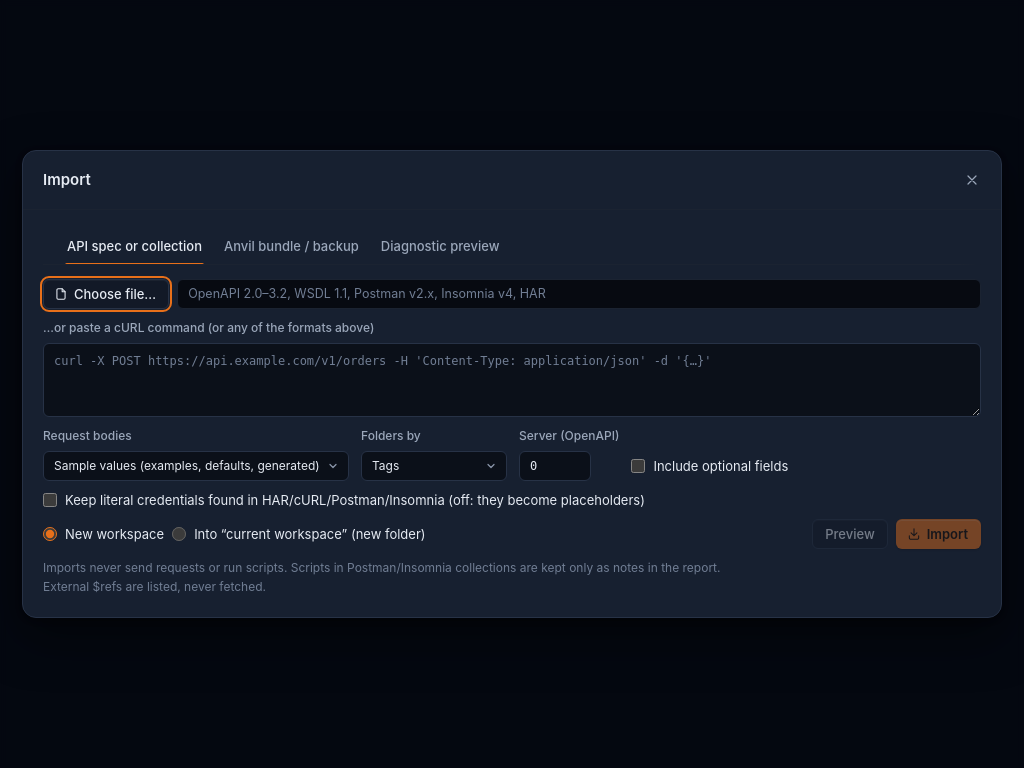
import dialog cancellation › cancels an import before it writes, and imports nothing
Click the tab "Anvil bundle / backup": [291, 246] box [214, 228, 369, 264]
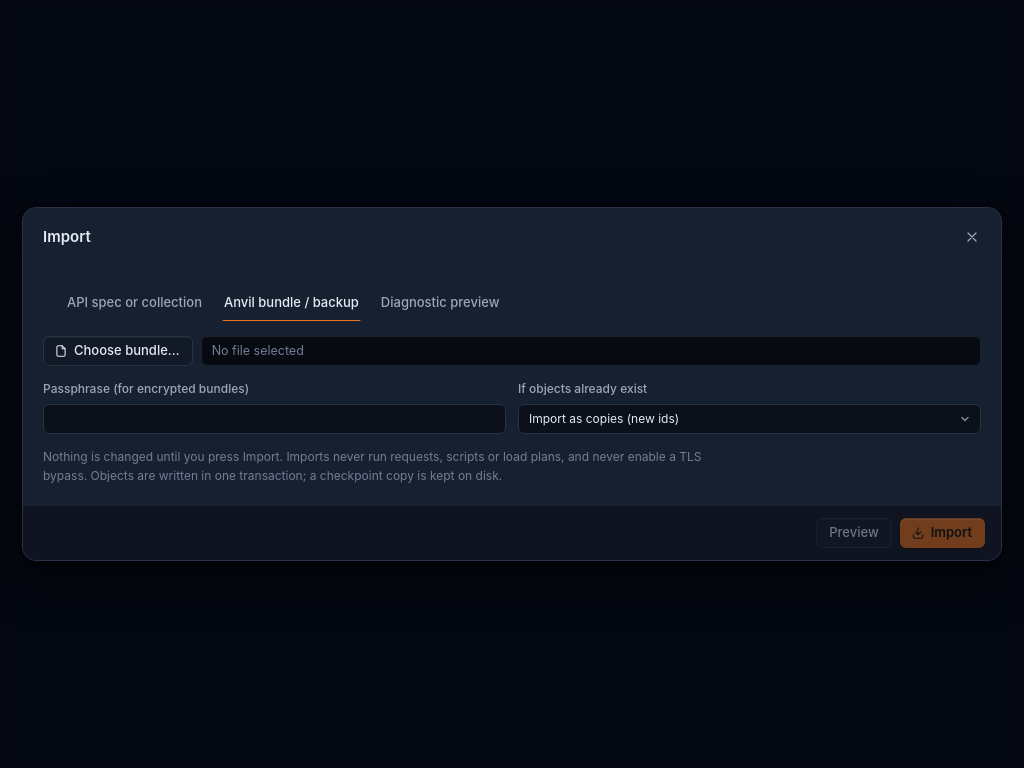
Click the button "Choose bundle…": [118, 351] box [43, 336, 193, 366]
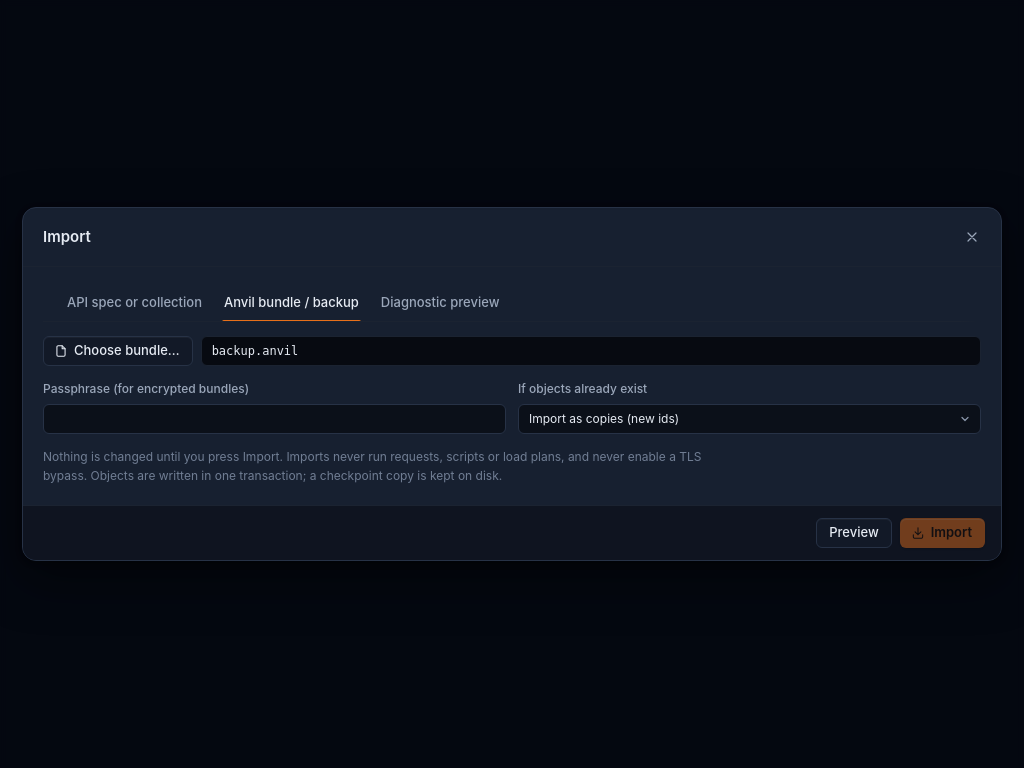
Check: the text "backup.anvil" is shown, box [201, 336, 981, 366]
In the password field labelled "Passphrase (for encrypted bundles)": [274, 419] box [43, 404, 506, 434], type "backup passphrase"
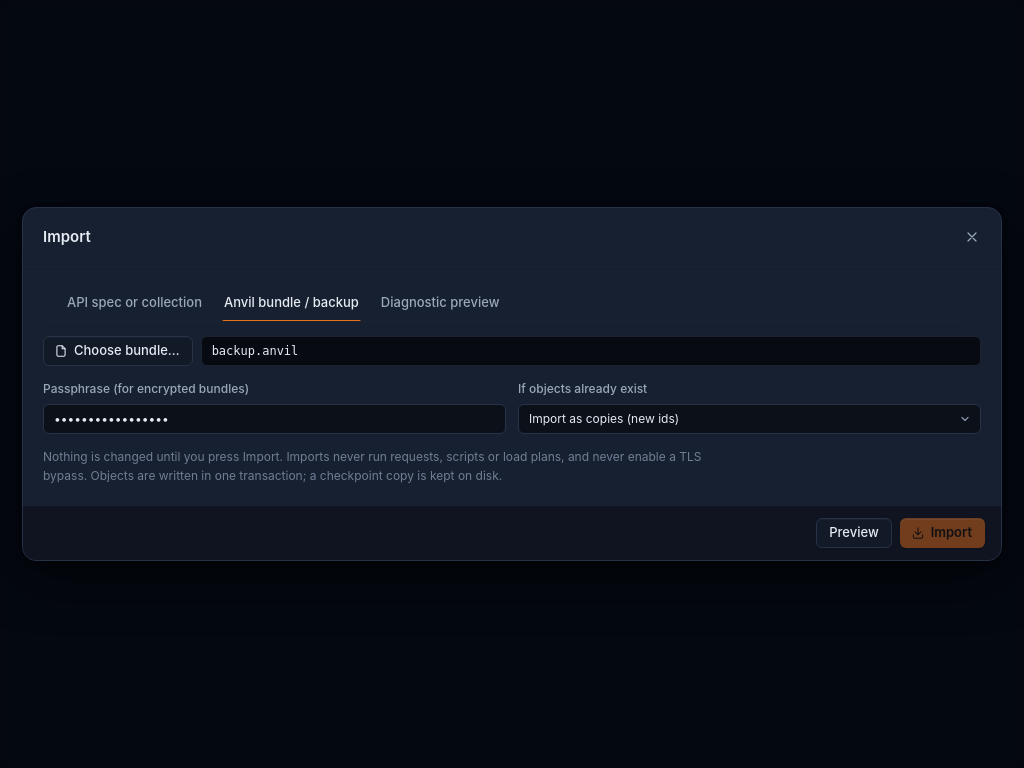
Click the button "Preview": [854, 533] box [816, 518, 892, 548]
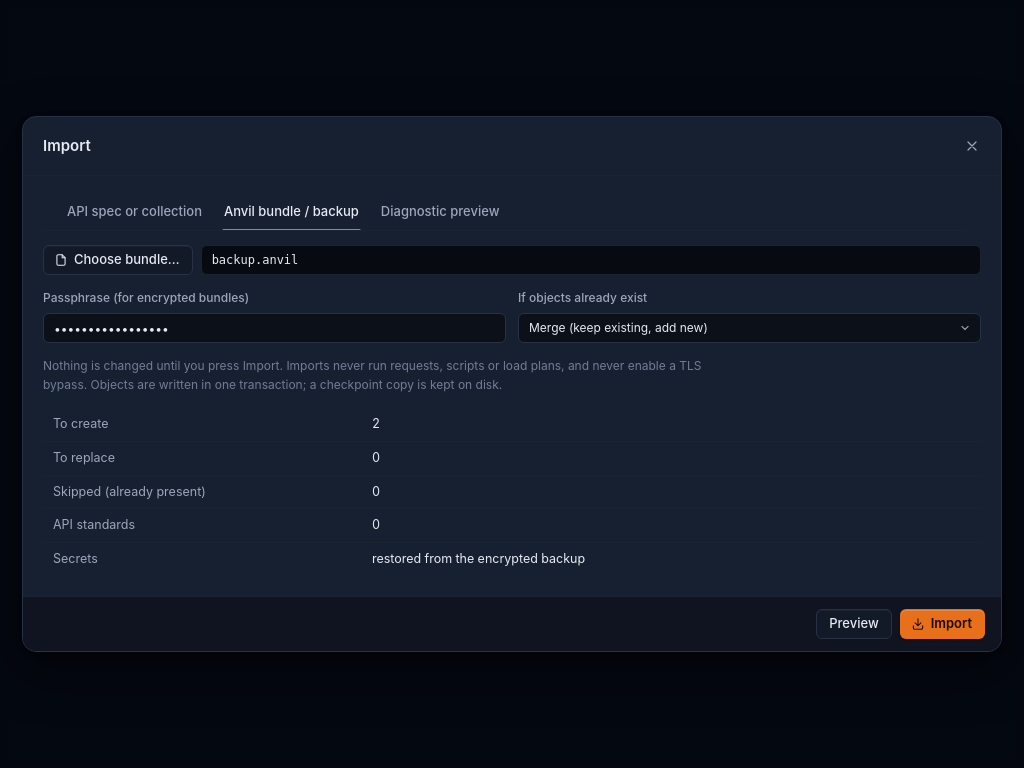
Check: the button "Import" is enabled
Click the button "Import": [942, 624] box [900, 609, 985, 639]
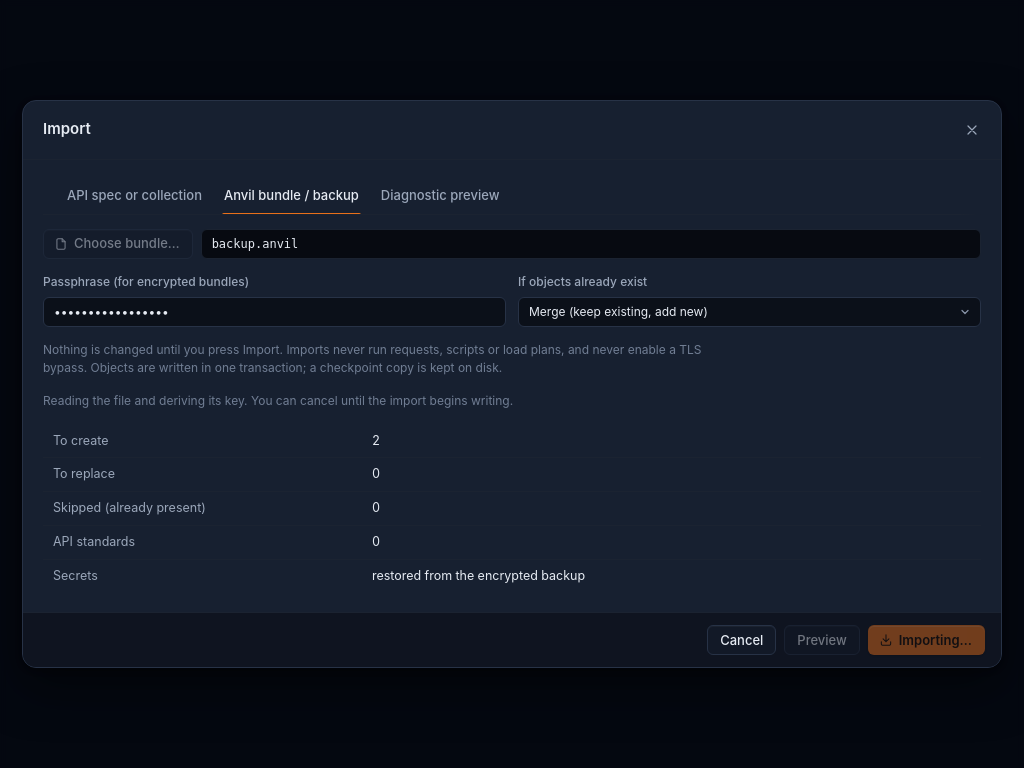
Check: the button "Cancel" is shown
Check: the button "Importing…" is disabled, box [868, 625, 985, 655]
Click the button "Cancel": [742, 640] box [707, 625, 776, 655]
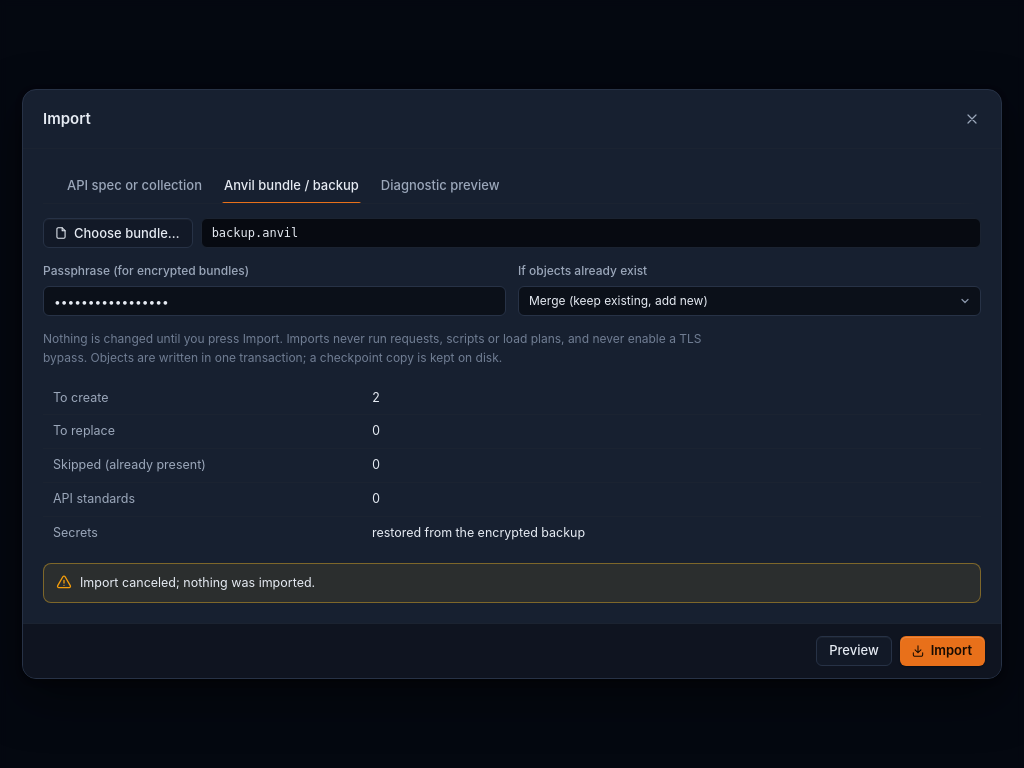
Check: the text "Import canceled; nothing was imported." is shown, box [43, 563, 981, 603]
Check: the button "Import" is enabled, box [900, 636, 985, 666]
